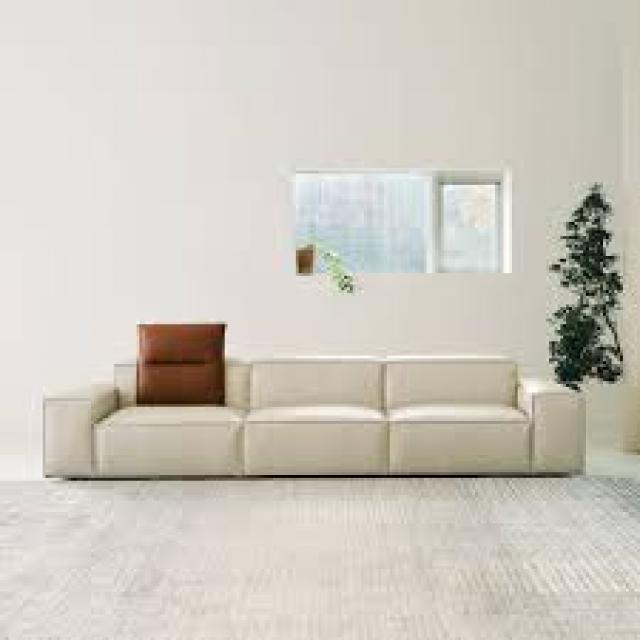Sofa: (15, 308, 598, 489)
